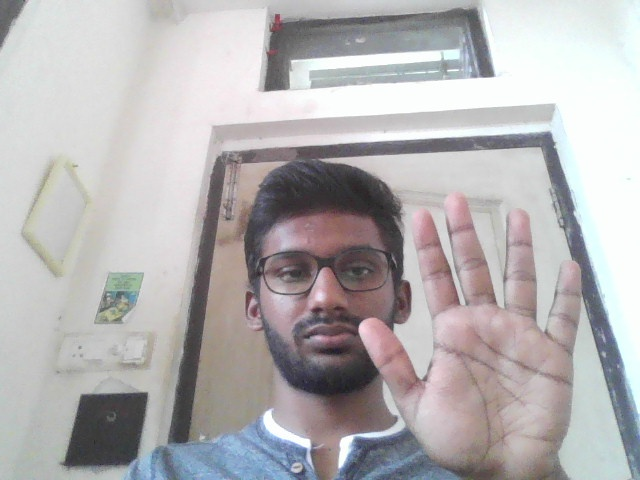Hello: (354, 190, 590, 480)
